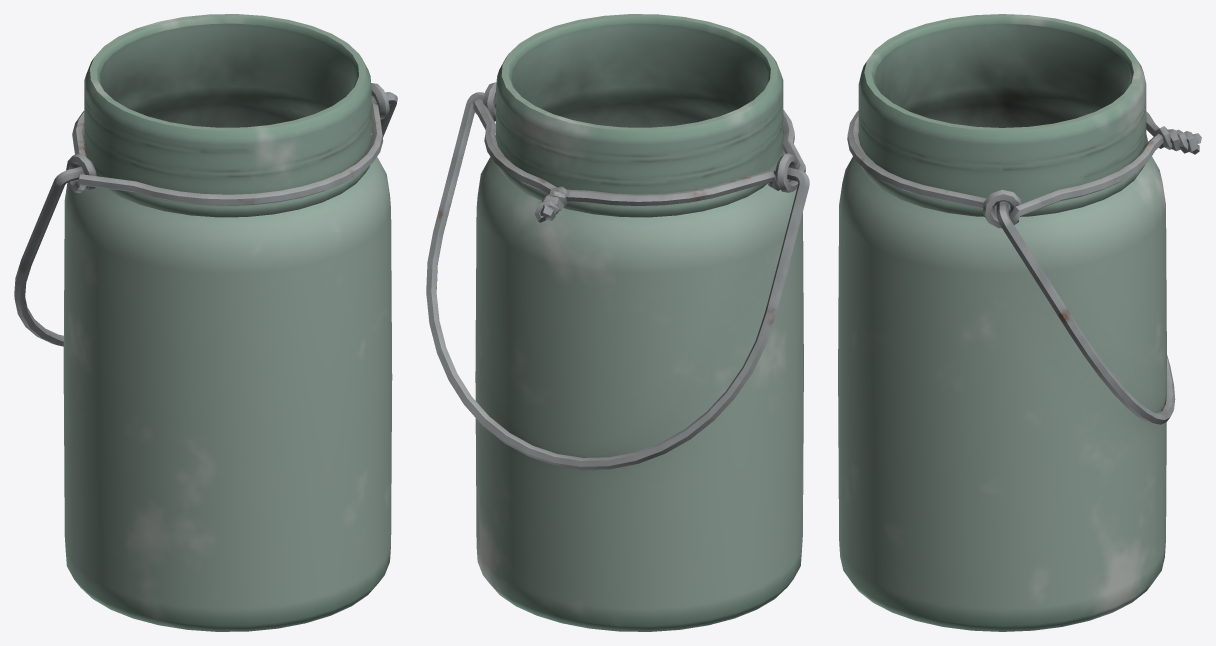
File: TeaLight.fbx
3 renders of one model, left to right at view 1: azimuth 30°, elevation 25°; view 2: azimuth 150°, elevation 25°; view 3: azimuth 270°, elevation 25°, orthographic.
Parts seen in each view (by area): view 1: TeaLight_Jar, TeaLight_Wire, TeaLight_Bail; view 2: TeaLight_Jar, TeaLight_Bail, TeaLight_Wire; view 3: TeaLight_Jar, TeaLight_Wire, TeaLight_Bail.
Boxes of the visible parts, x1,y1,x2,y2 form: TeaLight_Jar: [63, 14, 392, 631]; TeaLight_Wire: [66, 83, 389, 205]; TeaLight_Bail: [14, 92, 397, 346]; TeaLight_Jar: [475, 14, 803, 631]; TeaLight_Bail: [426, 92, 809, 469]; TeaLight_Wire: [473, 82, 805, 222]; TeaLight_Jar: [838, 14, 1166, 631]; TeaLight_Wire: [847, 110, 1201, 228]; TeaLight_Bail: [996, 201, 1175, 424].
Size of the model in its own units: 0.3629 by 0.5039 by 0.334.
2 materials, 2 textured.
